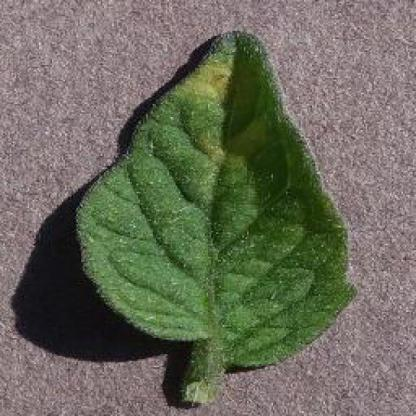Tomato_Leaf_Mold: (92, 32, 348, 332)
